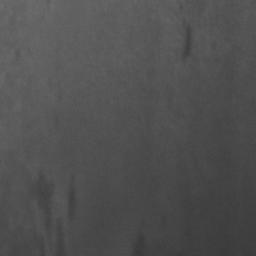Inclusion: (68, 187, 77, 219), (184, 27, 193, 58)
